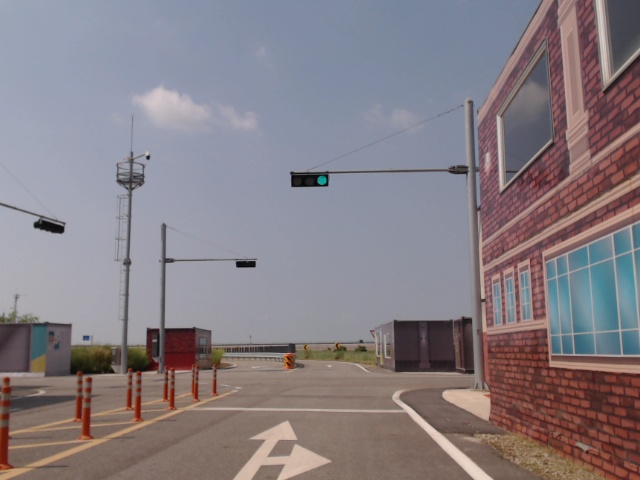green_3: (290, 174, 330, 187)
